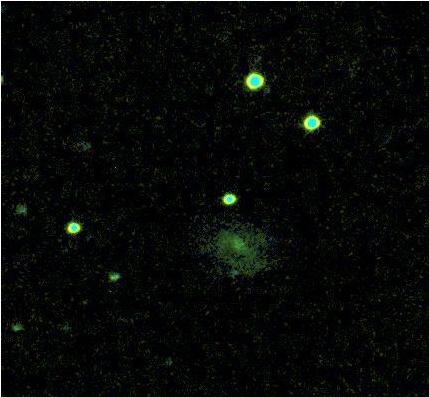star: (216, 261, 246, 291)
